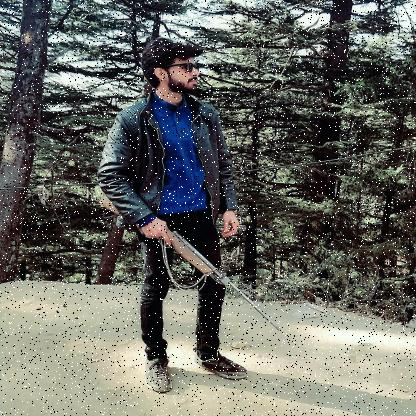rifle: (95, 193, 283, 332)
